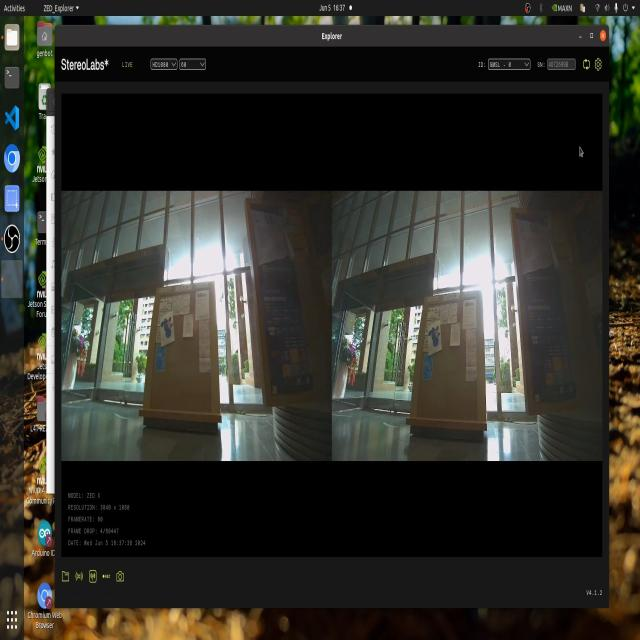blue: (425, 322, 446, 358), (155, 312, 177, 346)
